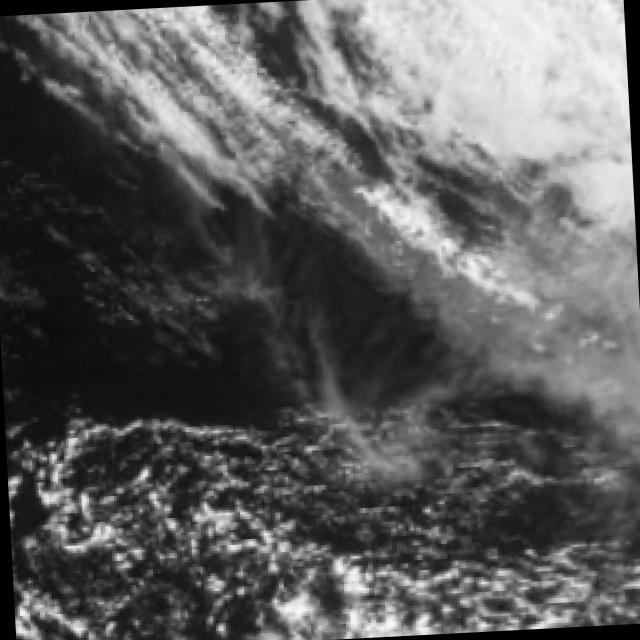CB: (402, 0, 631, 155)
